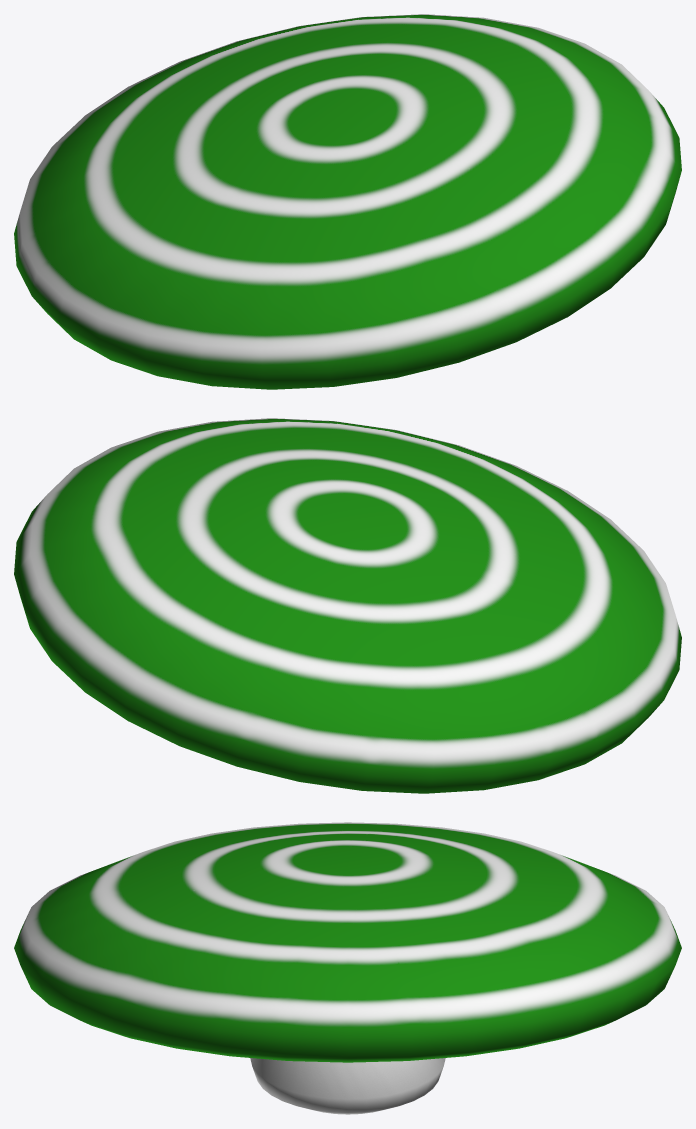
File: Mushroom_Ramp.fbx
The picture shows the model from 3 angles, top to bottom: view 1: azimuth 30°, elevation 25°; view 2: azimuth 150°, elevation 25°; view 3: azimuth 270°, elevation 25°; orthographic projection.
Parts seen in each view (by area): view 1: Cylinder; view 2: Cylinder; view 3: Cylinder.
Boxes of the visible parts, bbox=[...] form: Cylinder: bbox=[14, 14, 681, 389]; Cylinder: bbox=[14, 418, 681, 793]; Cylinder: bbox=[14, 822, 681, 1114].
Size of the model in its own units: 929 by 366 by 942.
Materials: 1 (1 with a texture image).
